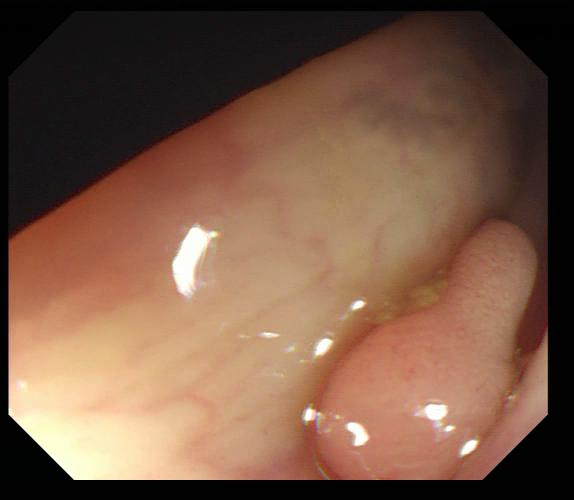polyp: (313, 220, 538, 479)
